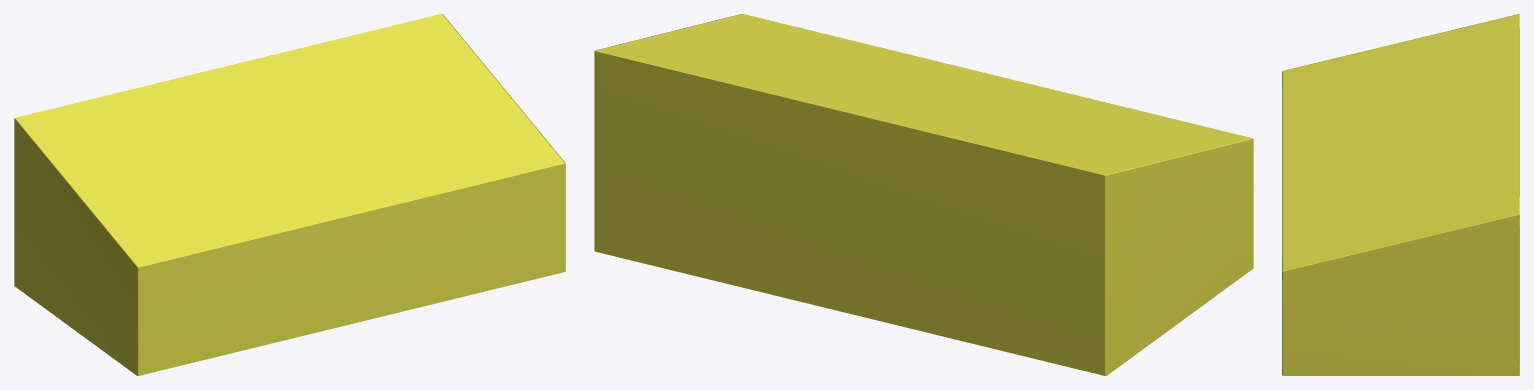
File: SM_Blockout_Speed_Jump_4x2x1.5.fbx
3 renders of one model, left to right at view 1: azimuth 30°, elevation 25°; view 2: azimuth 150°, elevation 25°; view 3: azimuth 270°, elevation 25°, orthographic. The views are drawn at different scales.
Visible parts, largest first — view 1: speed jump 4x2x1.5; view 2: speed jump 4x2x1.5; view 3: speed jump 4x2x1.5.
Part boxes in pixels (x1,y1,x2,y2): speed jump 4x2x1.5: (14,14,565,375); speed jump 4x2x1.5: (594,14,1253,375); speed jump 4x2x1.5: (1282,14,1519,375).
Size of the model in its own units: 400 by 150 by 200.
